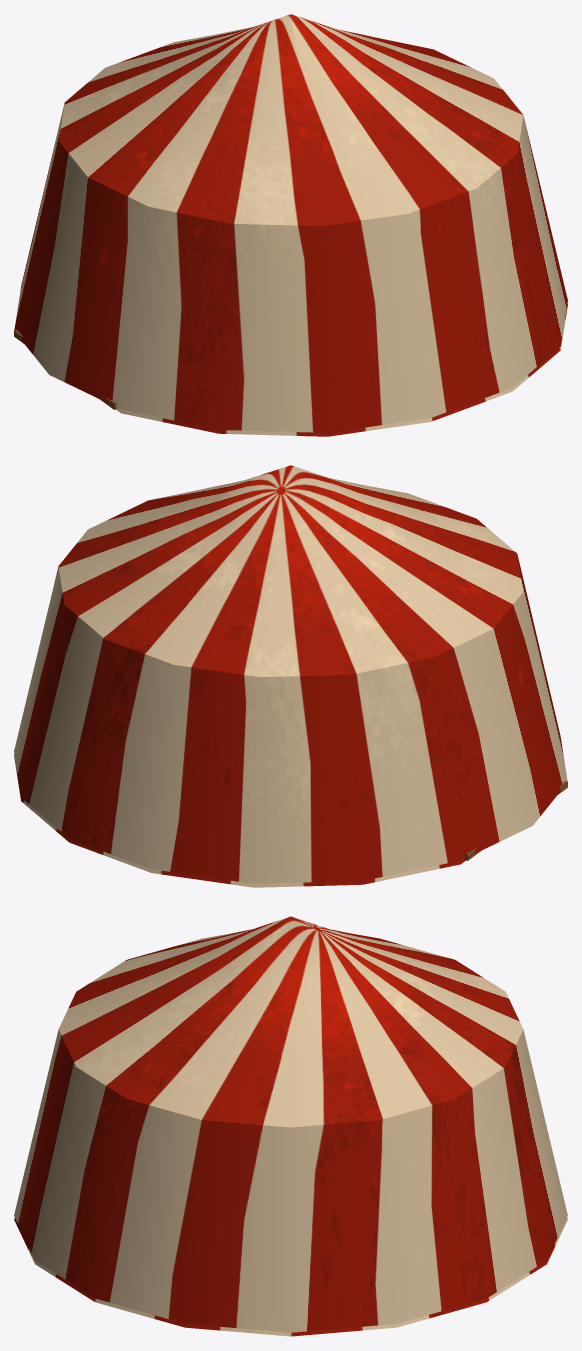
The model's file is full scene.fbx.
The picture shows the model from 3 angles, top to bottom: view 1: azimuth 30°, elevation 25°; view 2: azimuth 150°, elevation 25°; view 3: azimuth 270°, elevation 25°; orthographic projection.
Visible parts, largest first — view 1: pasted__pasted__pCylinder4 (×2); view 2: pasted__pasted__pCylinder4 (×2); view 3: pasted__pasted__pCylinder4 (×2).
Boxes of the visible parts, x1,y1,x2,y2 form: pasted__pasted__pCylinder4 (×2): (14,14,567,436); pasted__pasted__pCylinder4 (×2): (14,465,567,887); pasted__pasted__pCylinder4 (×2): (14,916,567,1336).
Bounding box in the file's own units: 816 × 500 × 816.
